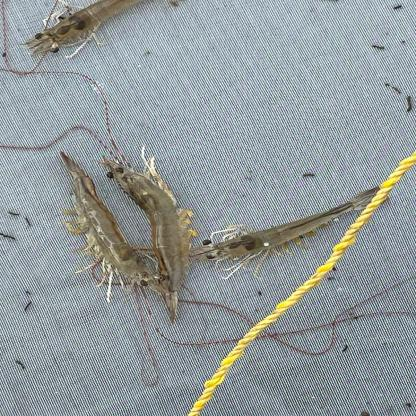shrimp: (95, 156, 191, 327), (59, 151, 168, 294), (191, 185, 393, 262), (23, 3, 139, 56)
